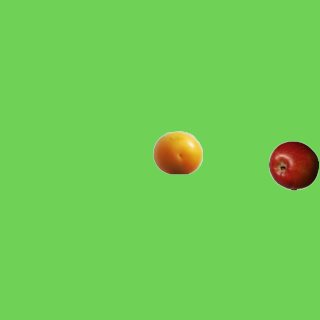Apple Braeburn: (268, 140, 318, 190)
Cherry Wax Yellow: (152, 127, 202, 177)
